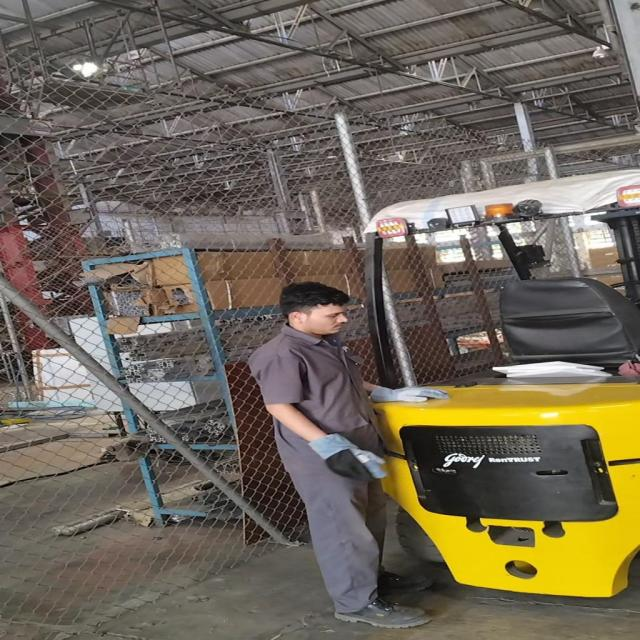Gloves-Detection: (294, 425, 386, 487), (356, 379, 452, 409)
